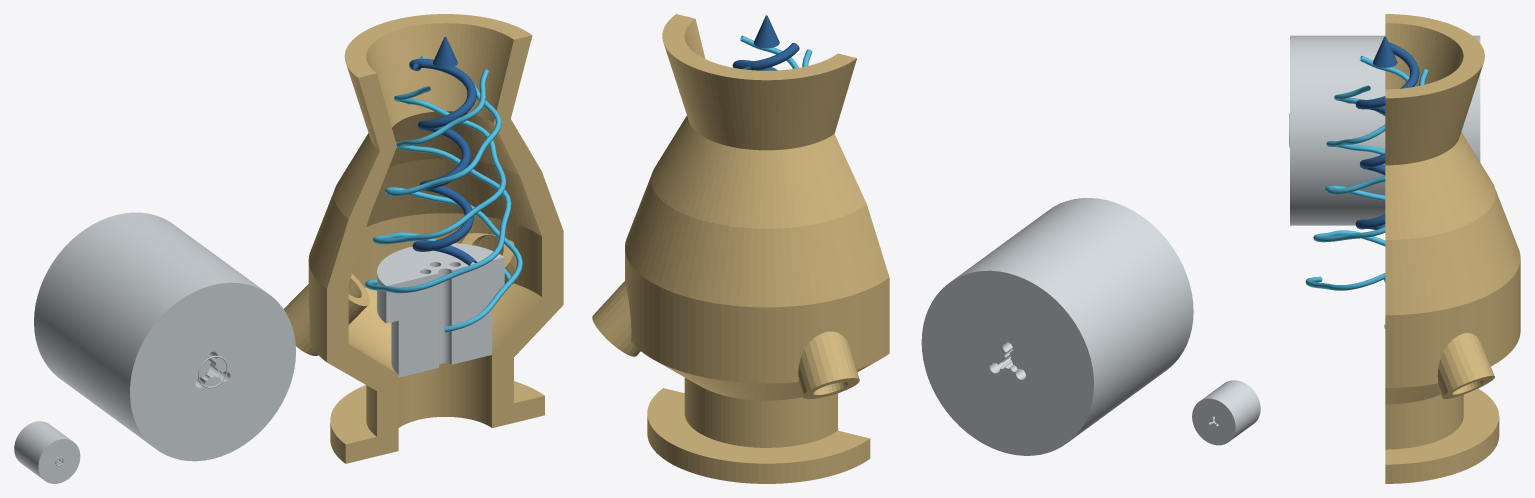
The model's file is kinetic-nozzle.glb.
The picture shows the model from 3 angles, left to right: view 1: azimuth 30°, elevation 25°; view 2: azimuth 150°, elevation 25°; view 3: azimuth 270°, elevation 25°; orthographic projection. The views are drawn at different scales.
Parts seen in each view (by area): view 1: kn-eductor-body, kn-disc-420, kn-vortex-guides, kn-disc-5gpd; view 2: kn-eductor-body, kn-disc-420, kn-disc-5gpd, kn-vortex-guides; view 3: kn-eductor-body, kn-disc-420, kn-vortex-guides.
Boxes of the visible parts, bbox=[...] form: kn-eductor-body: bbox=[283, 14, 563, 463]; kn-disc-420: bbox=[34, 212, 295, 461]; kn-vortex-guides: bbox=[365, 36, 522, 332]; kn-disc-5gpd: bbox=[14, 421, 80, 483]; kn-eductor-body: bbox=[592, 14, 889, 483]; kn-disc-420: bbox=[921, 198, 1193, 455]; kn-disc-5gpd: bbox=[1192, 380, 1260, 445]; kn-vortex-guides: bbox=[732, 15, 812, 70]; kn-eductor-body: bbox=[1385, 14, 1520, 483]; kn-disc-420: bbox=[1289, 35, 1480, 225]; kn-vortex-guides: bbox=[1305, 36, 1428, 328].
Bounding box in the file's own units: 0.3639 × 0.247 × 0.1297.
